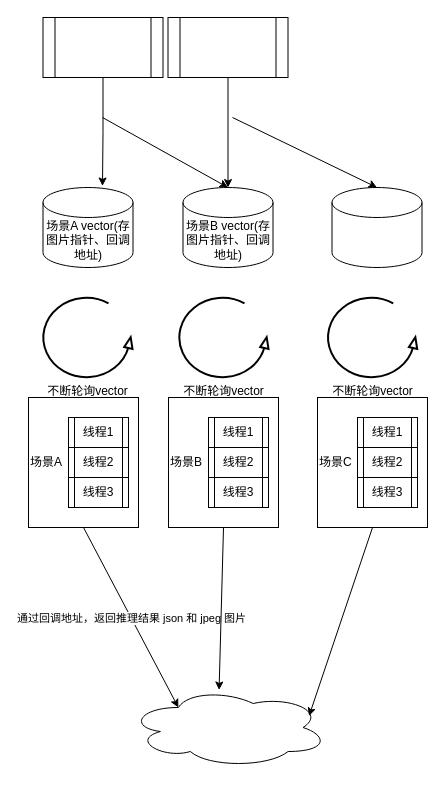
Image size: 445x785. Some labels were removed from this diagram. Each missing label, with the centre of its shape:
"HTTP服务器(接收结果)" goes at point 228,727.
"场景C vector(存图片指针、回调地址)" goes at point 376,227.
"拉流线程1 （负责1个rtsp）" goes at point 102,47.
"拉流线程2 （负责1个rtsp）" goes at point 227,47.
